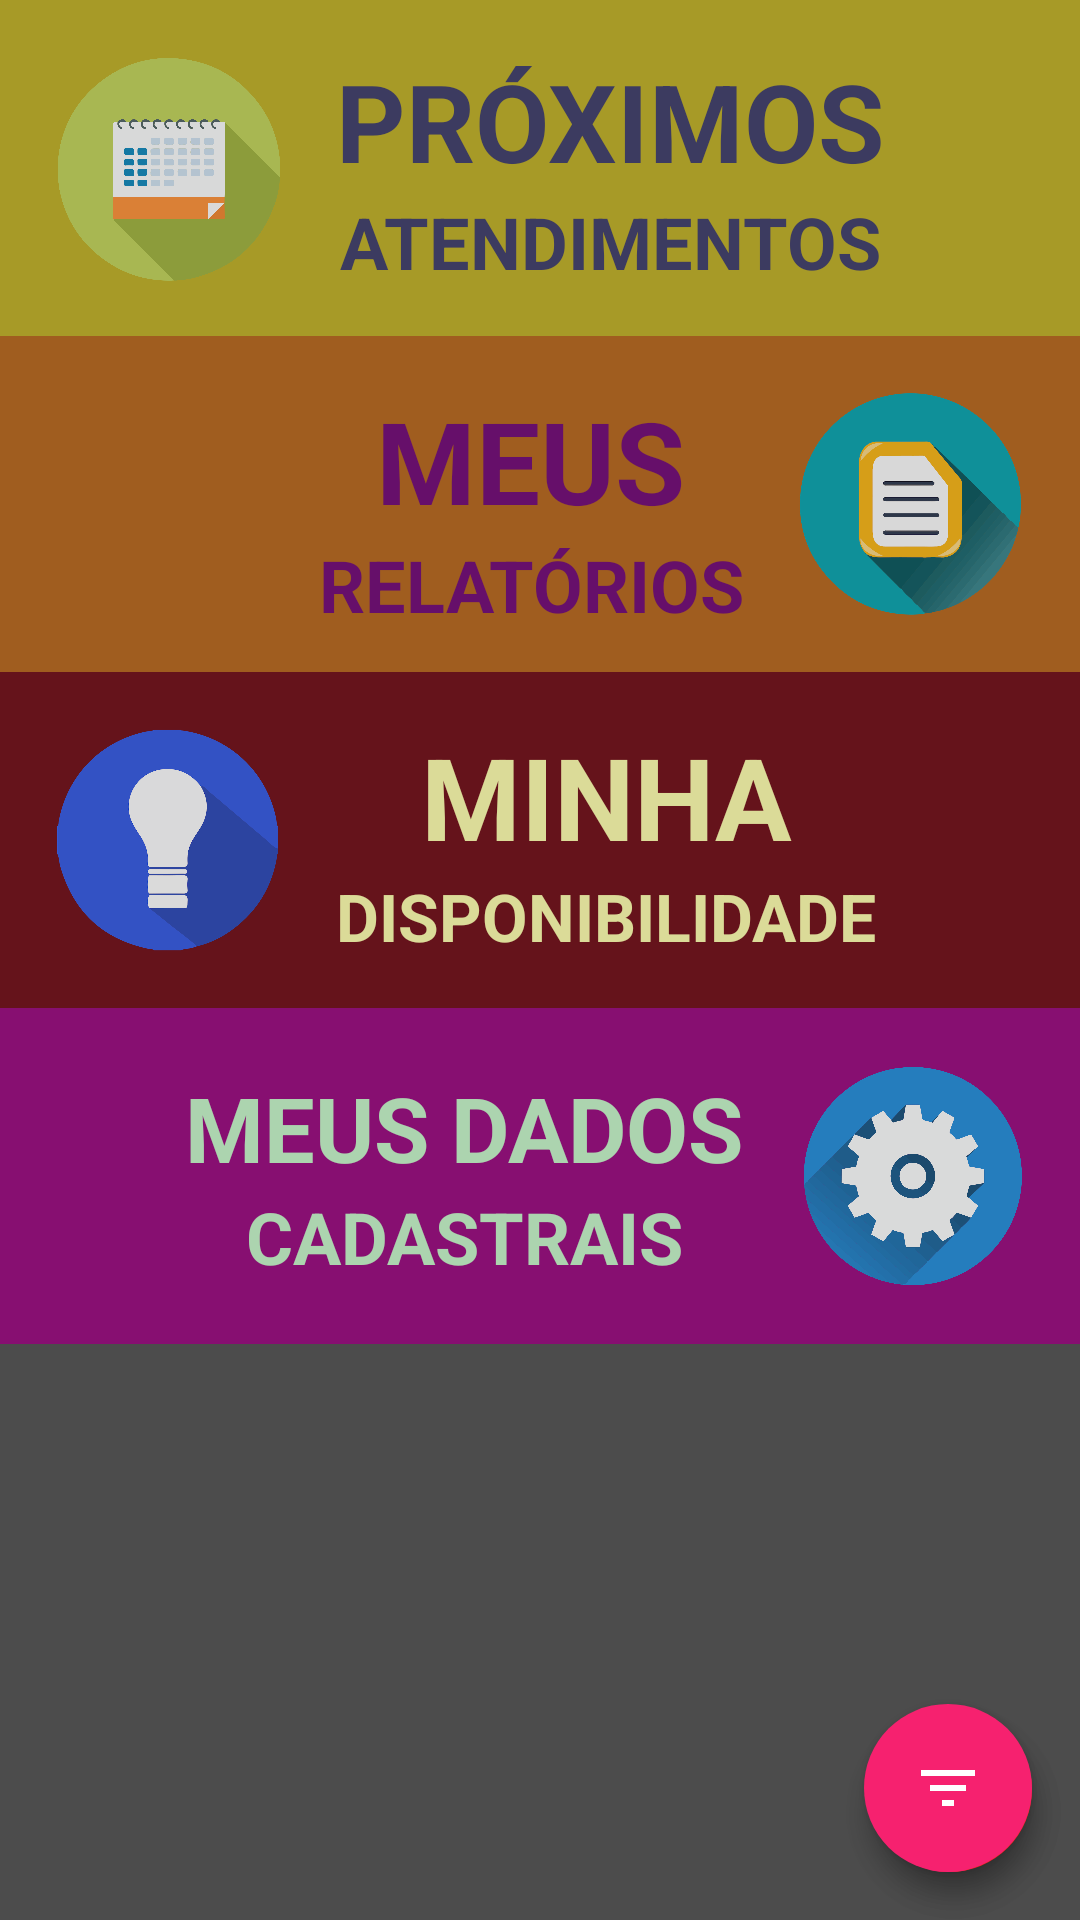

Icon bounding boxes for this 1080w x 1920h phone screenshot, format [left=x1, top=y1, right=x2, bottom=y2]:
calendar: [left=58, top=58, right=280, bottom=281]
filter variant: [left=864, top=1704, right=1032, bottom=1872]
lamp: [left=57, top=730, right=278, bottom=950]
list: [left=800, top=393, right=1021, bottom=615]
settings: [left=804, top=1067, right=1022, bottom=1285]
